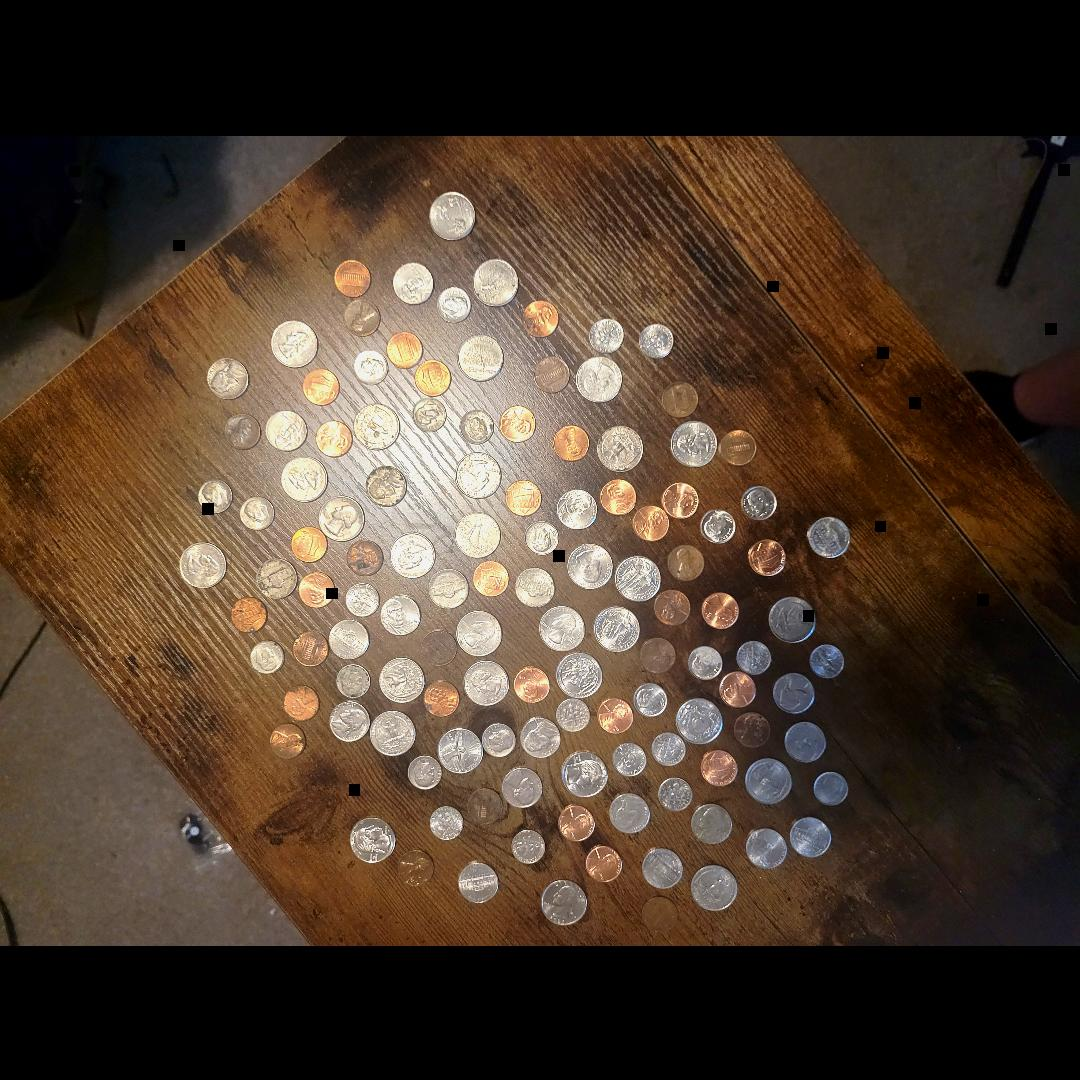Dime: (810, 769, 850, 803), (636, 324, 674, 358), (407, 752, 444, 786), (808, 642, 844, 675), (652, 728, 688, 761), (346, 582, 380, 616), (199, 479, 233, 513), (658, 774, 692, 808), (439, 286, 473, 320), (460, 408, 494, 442), (242, 494, 276, 528), (611, 740, 647, 772), (510, 828, 545, 860), (736, 640, 770, 672), (336, 664, 370, 696), (414, 399, 448, 431), (741, 488, 777, 518), (430, 806, 464, 837), (356, 351, 390, 382), (592, 319, 624, 351), (634, 682, 666, 714), (558, 699, 590, 731), (524, 524, 556, 556), (482, 724, 516, 754), (688, 646, 720, 676), (252, 641, 284, 671), (700, 509, 733, 538)
Nickel: (364, 464, 408, 506), (392, 262, 435, 304), (790, 816, 832, 858), (643, 846, 687, 886), (807, 517, 851, 557), (775, 672, 819, 712), (554, 488, 598, 528), (690, 804, 736, 842), (606, 792, 652, 829), (744, 828, 786, 868), (786, 720, 828, 760), (454, 862, 496, 902), (519, 716, 561, 756), (328, 619, 370, 659), (265, 409, 307, 449), (501, 766, 543, 805), (330, 700, 370, 740), (208, 357, 250, 395), (512, 567, 554, 603), (426, 569, 468, 605), (258, 560, 298, 596), (380, 596, 419, 632)
Penny: (395, 846, 440, 886), (700, 591, 742, 627), (700, 746, 740, 782), (293, 526, 330, 564), (304, 366, 341, 404), (316, 417, 354, 454), (733, 711, 770, 749), (663, 380, 701, 416), (558, 804, 596, 840), (720, 671, 758, 707), (640, 636, 676, 674), (332, 260, 370, 296), (467, 789, 505, 825), (421, 628, 457, 666), (503, 480, 543, 514), (271, 722, 308, 758), (301, 572, 338, 608), (388, 331, 426, 366), (652, 590, 691, 624), (746, 538, 782, 574), (584, 845, 620, 881), (601, 479, 637, 515), (553, 422, 589, 458), (425, 680, 461, 716), (664, 482, 700, 518), (475, 557, 511, 593), (722, 428, 758, 464), (500, 404, 536, 440), (670, 543, 706, 579), (414, 358, 450, 394), (523, 298, 559, 334), (512, 668, 552, 700), (598, 698, 634, 733), (346, 538, 381, 574), (346, 298, 382, 333), (293, 630, 330, 664), (230, 594, 264, 630), (634, 503, 668, 538), (536, 356, 570, 391), (282, 684, 316, 717), (226, 414, 258, 446)
Quarter: (270, 316, 318, 366), (769, 595, 818, 643), (576, 352, 624, 400), (743, 757, 793, 803), (366, 710, 416, 756), (540, 877, 588, 923), (432, 191, 478, 239), (282, 455, 328, 503), (536, 606, 584, 652), (555, 650, 603, 696), (691, 863, 740, 907), (593, 604, 639, 650), (464, 658, 510, 704), (472, 259, 520, 303), (388, 532, 436, 576), (675, 698, 724, 741), (180, 542, 226, 587), (352, 404, 397, 450), (455, 453, 501, 498), (670, 419, 718, 462), (454, 514, 500, 558), (352, 816, 398, 860), (614, 555, 662, 597), (454, 612, 502, 654), (378, 658, 426, 700), (458, 337, 506, 379), (438, 726, 484, 769), (320, 494, 364, 538), (601, 423, 644, 467), (564, 752, 609, 794), (566, 544, 610, 586)
